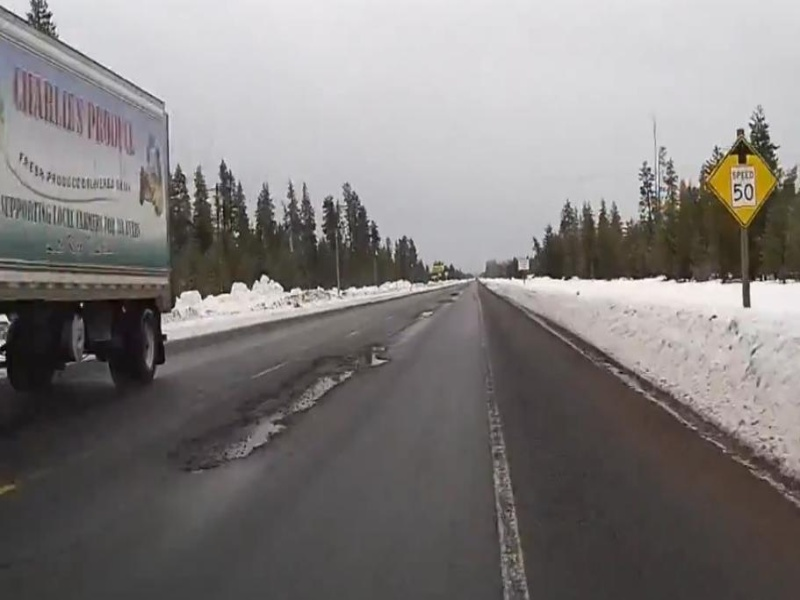pothole: (174, 418, 286, 480), (244, 362, 357, 421)
